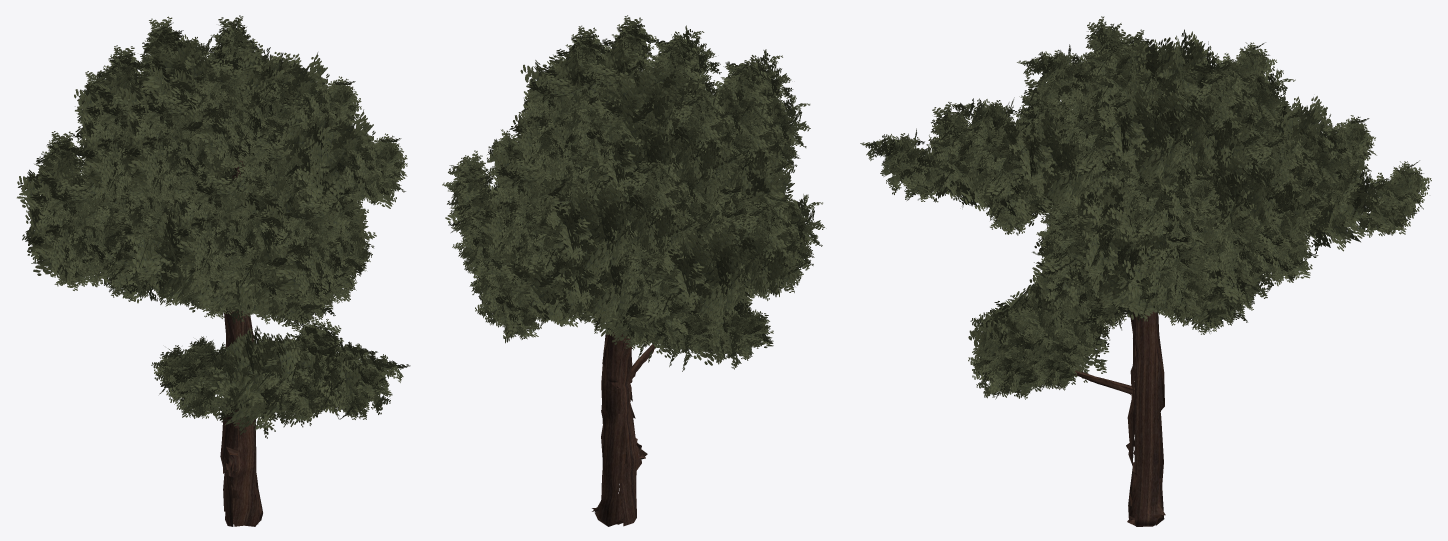
File: Tree.fbx
The picture shows the model from 3 angles, left to right: view 1: azimuth 30°, elevation 25°; view 2: azimuth 150°, elevation 25°; view 3: azimuth 270°, elevation 25°; orthographic projection.
Parts seen in each view (by area): view 1: leaves_Leaves_0.002_Leaves_0.005; view 2: leaves_Leaves_0.002_Leaves_0.005; view 3: leaves_Leaves_0.002_Leaves_0.005.
Part boxes in pixels (bbox=[...]): leaves_Leaves_0.002_Leaves_0.005: bbox=[17, 15, 410, 526]; leaves_Leaves_0.002_Leaves_0.005: bbox=[442, 15, 824, 526]; leaves_Leaves_0.002_Leaves_0.005: bbox=[860, 16, 1431, 526].
Size of the model in its own units: 10.17 by 14.3 by 13.15.
1 material, 1 textured.
